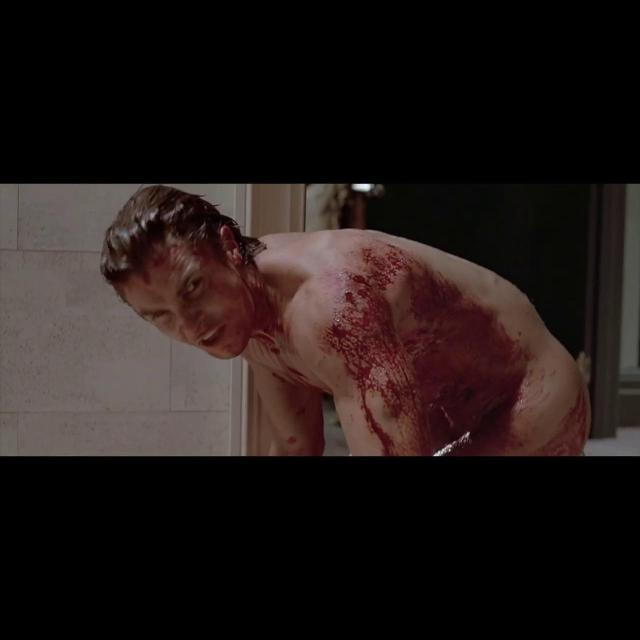blood: (318, 230, 590, 455), (124, 228, 284, 358), (272, 384, 324, 456), (256, 356, 324, 390)
